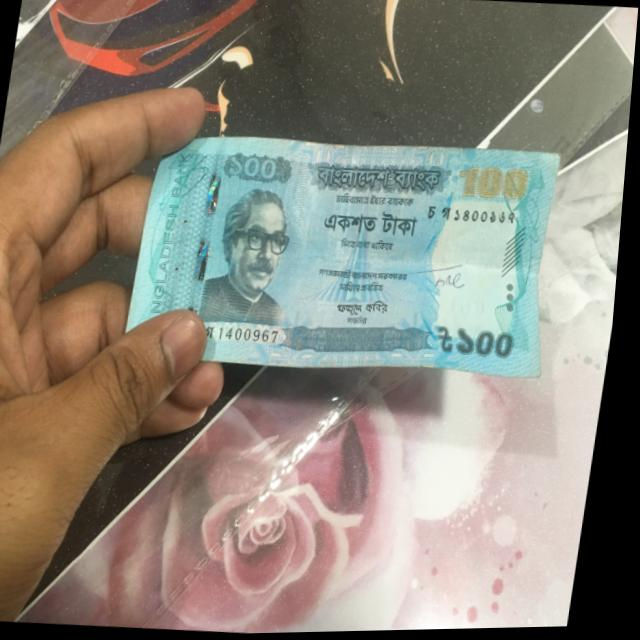Taka: (128, 125, 578, 393)
